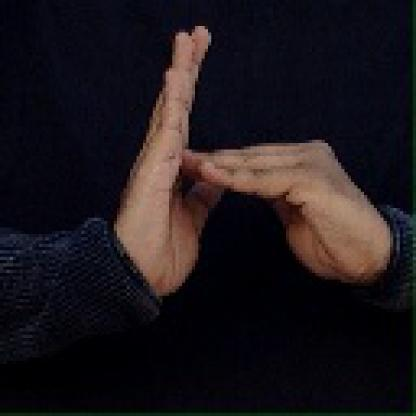Z: (119, 23, 380, 287)
